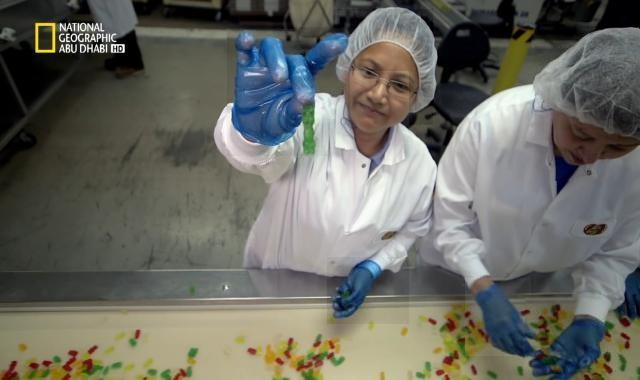apron: (227, 28, 345, 157), (525, 296, 619, 372), (328, 257, 410, 324), (466, 278, 532, 356)
gloves: (536, 23, 640, 141), (337, 9, 433, 125)
no_hairnet: (350, 72, 409, 138), (550, 130, 619, 182)
